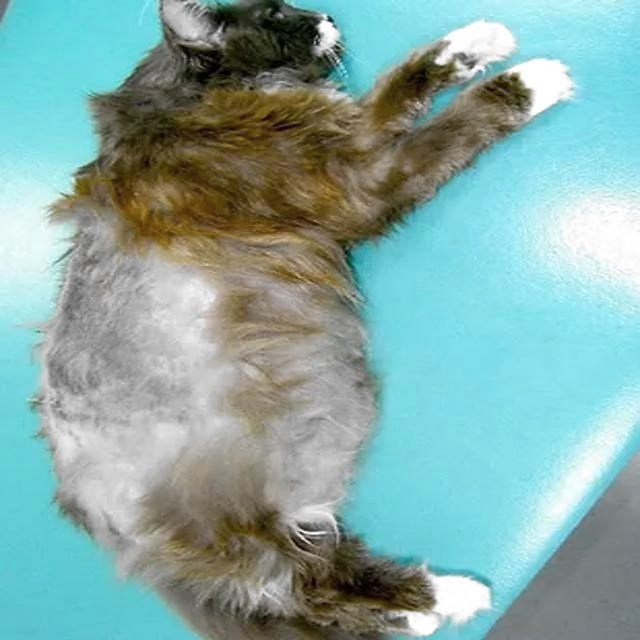hairloss: (57, 244, 191, 530), (261, 302, 352, 502)
